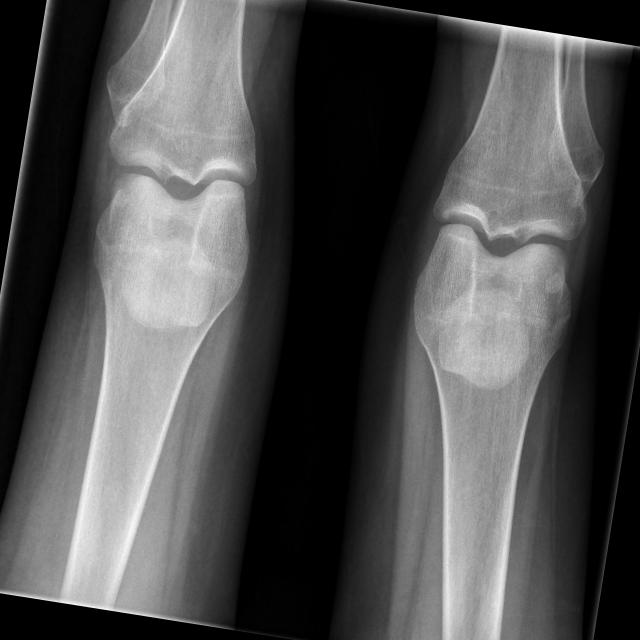Knee: (412, 154, 596, 325), (92, 100, 274, 268)
